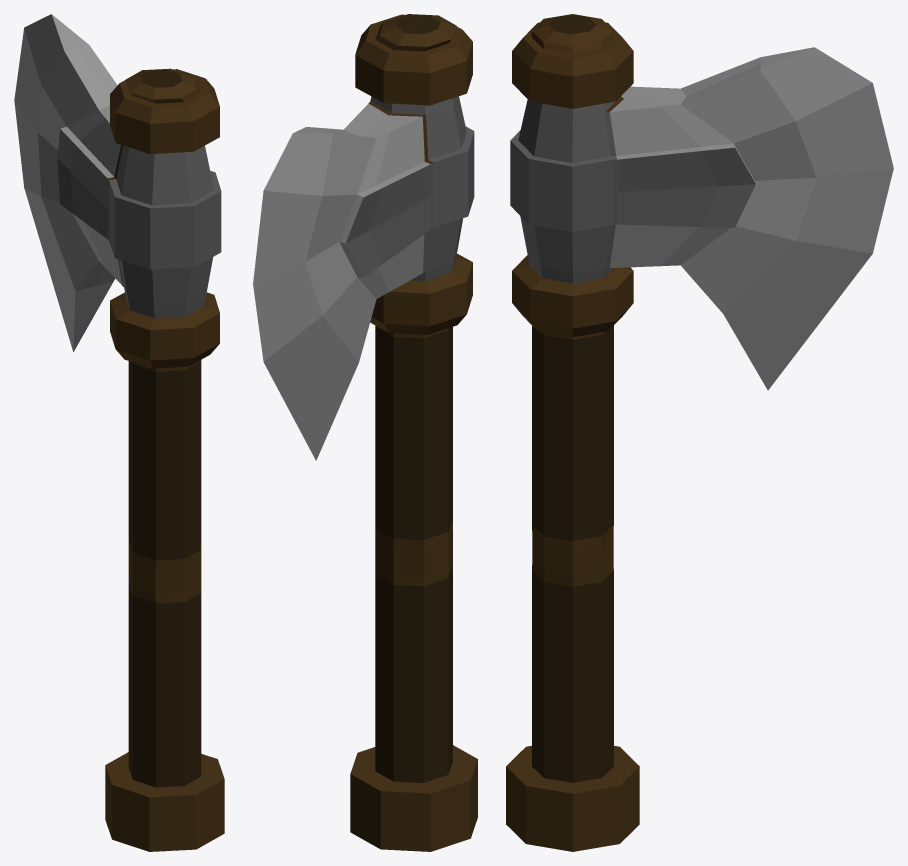
The model's file is Axe.fbx.
3 views of the same model, side by side, from view 1: azimuth 30°, elevation 25°; view 2: azimuth 150°, elevation 25°; view 3: azimuth 270°, elevation 25° (orthographic). The views are drawn at different scales.
Parts seen in each view (by area): view 1: Circle; view 2: Circle; view 3: Circle.
Part boxes in pixels (x1,y1,x2,y2): Circle: (14,14,224,851); Circle: (253,14,477,851); Circle: (506,14,893,851).
Size of the model in its own units: 511 by 3490 by 1522.
